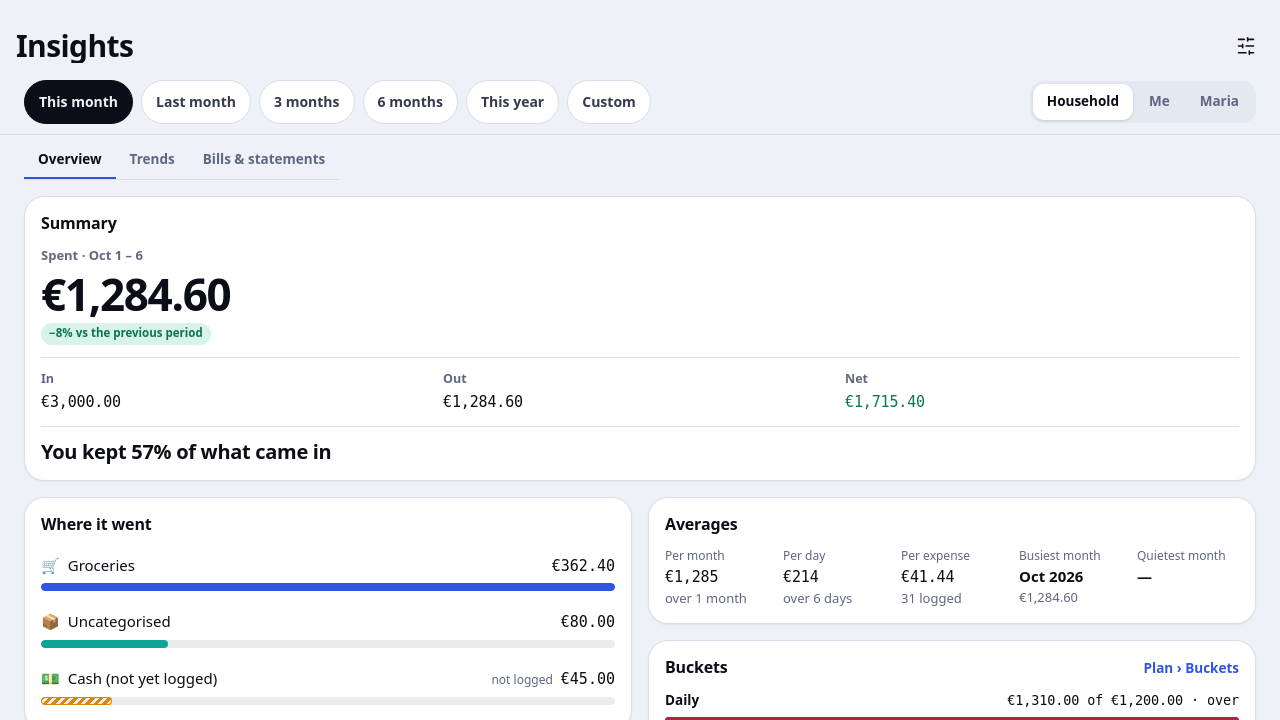
Test: Insights › the Custom chip opens the sheet and Apply sets a custom period
Click the button "Custom" at (609, 102), box x1=567 y1=80 x2=651 y2=124
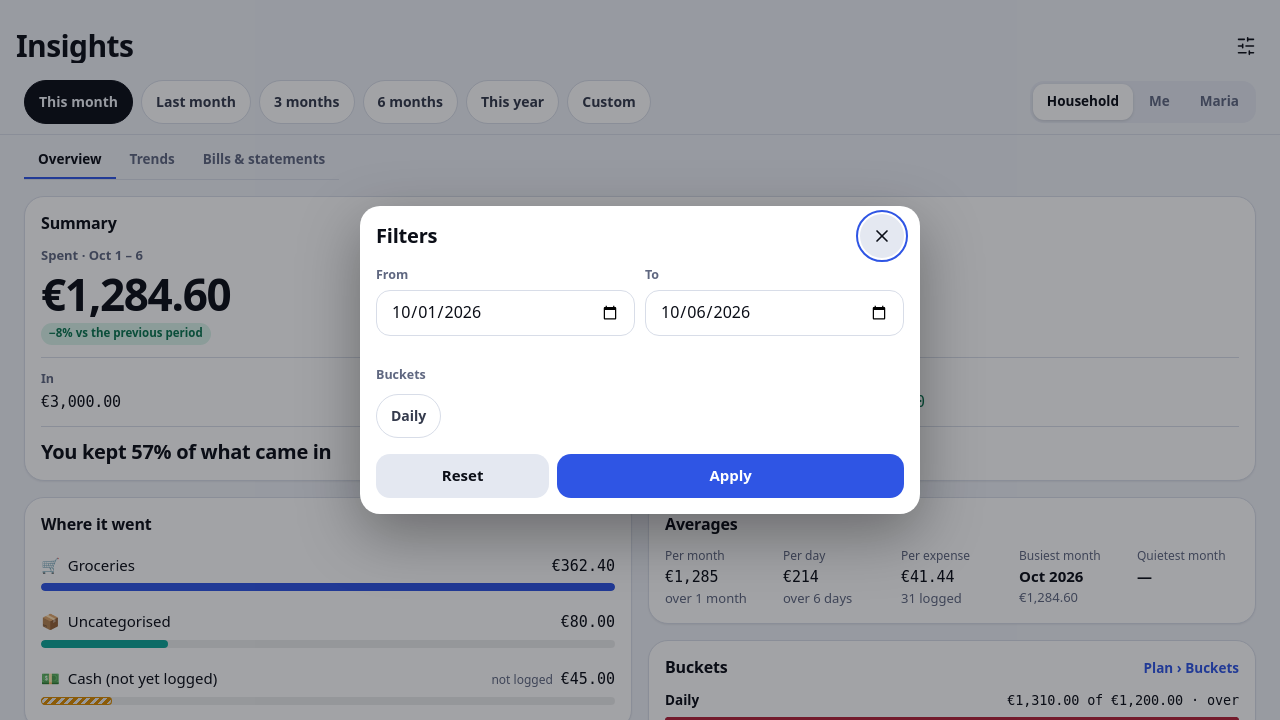
Click the button "Apply" at (731, 476), box x1=557 y1=454 x2=904 y2=498
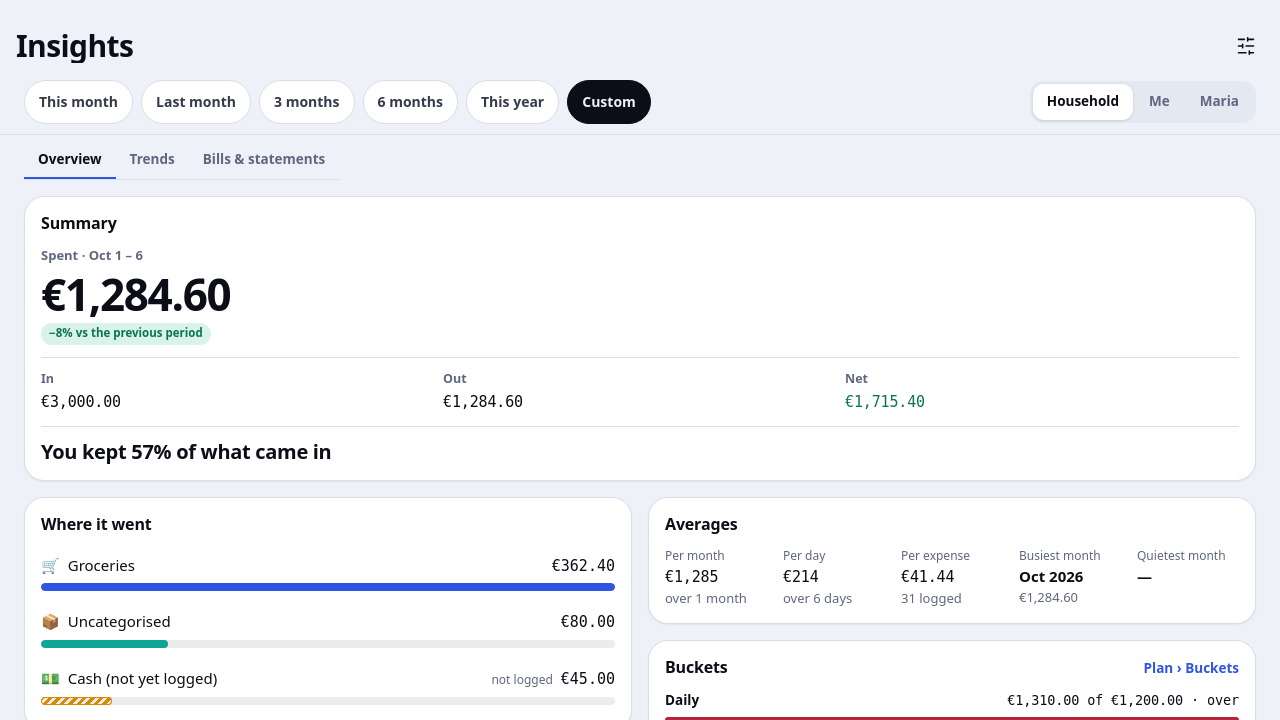
Check: the dialog is gone
